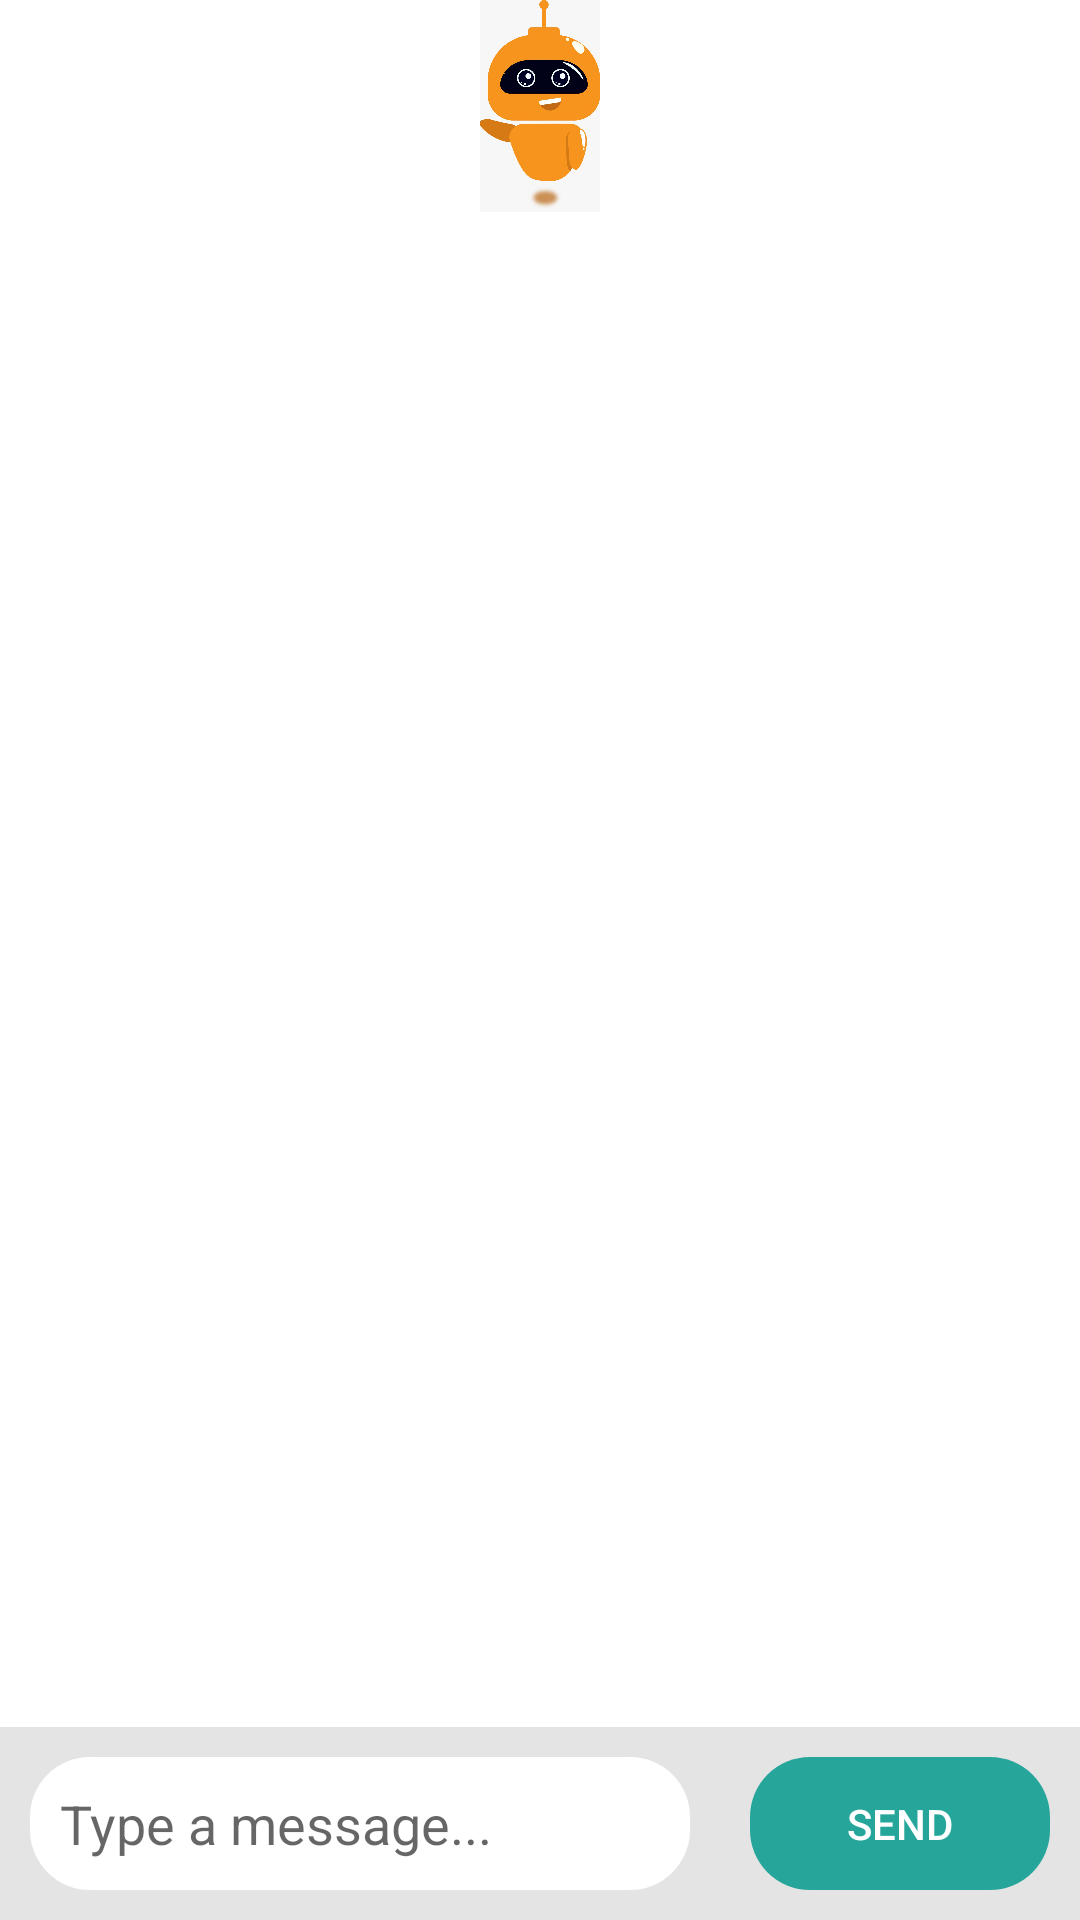

Where icons sit on this 1080 x 1920 app screen, as (x1, y1, x2, y2):
bot: (480, 0, 600, 207)
